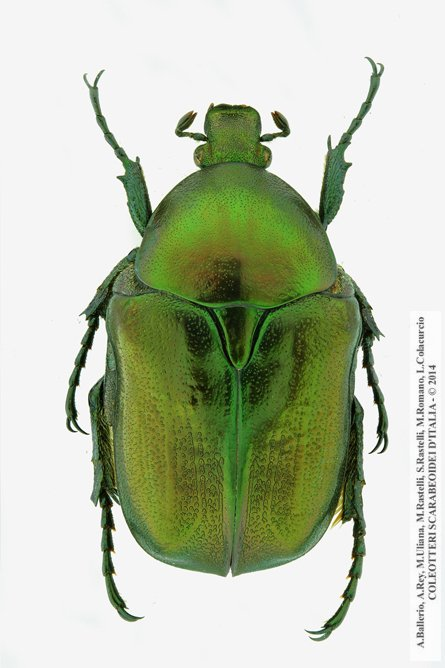Protaetia_angustata_angustata: (64, 53, 401, 648)
